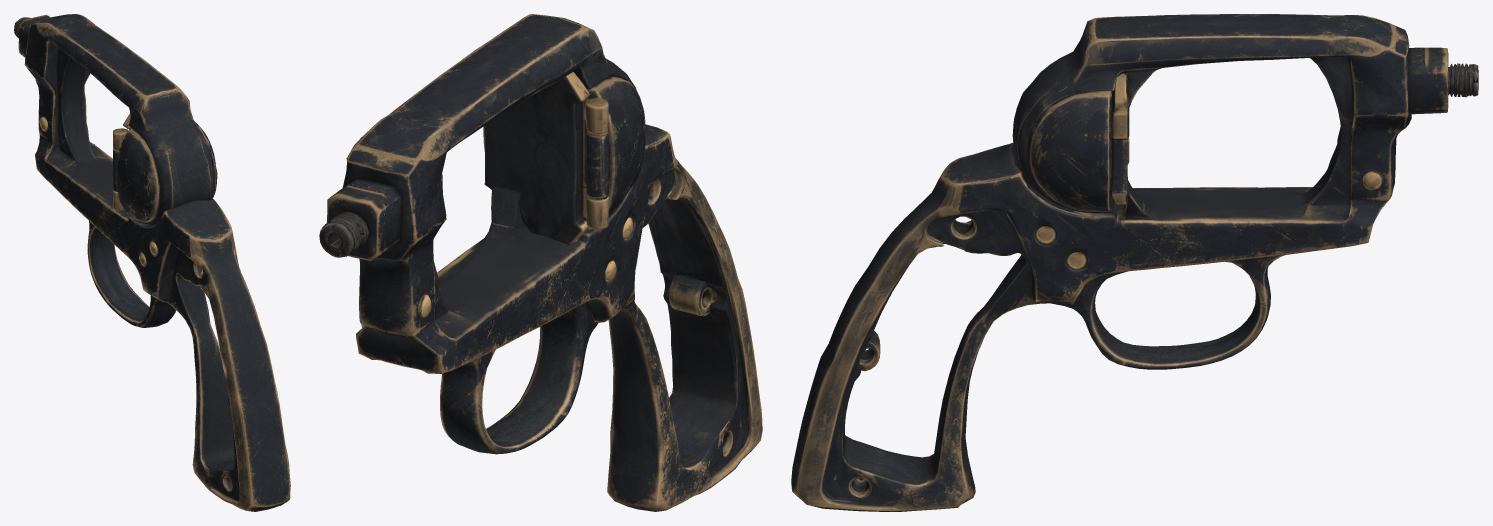
Rendered from rv_frame.glb.
3 renders of one model, left to right at view 1: azimuth 30°, elevation 25°; view 2: azimuth 150°, elevation 25°; view 3: azimuth 270°, elevation 25°, orthographic. The views are drawn at different scales.
Visible parts, largest first — view 1: Mesh_0; view 2: Mesh_0; view 3: Mesh_0.
Boxes of the visible parts, bbox=[...] form: Mesh_0: bbox=[14, 14, 290, 511]; Mesh_0: bbox=[319, 14, 762, 511]; Mesh_0: bbox=[791, 14, 1478, 511].
Bounding box in the file's own units: 0.035 × 0.1369 × 0.1783.
Materials: 1 (1 with a texture image).
